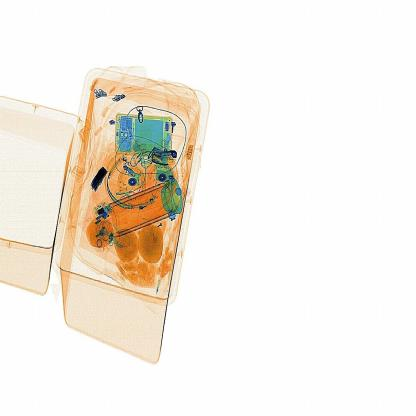scissors: (90, 163, 113, 194)
